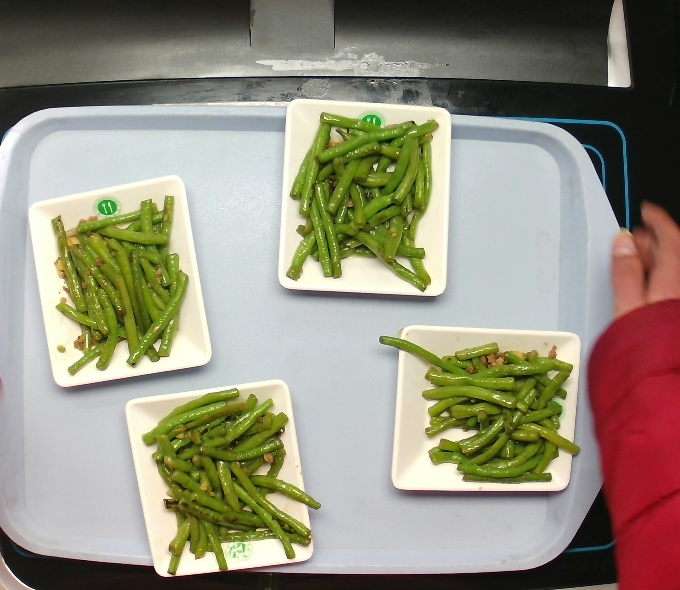wcq-RouMoJiangDou: (395, 322, 582, 511), (36, 180, 198, 389), (144, 387, 316, 583), (291, 100, 435, 301)
